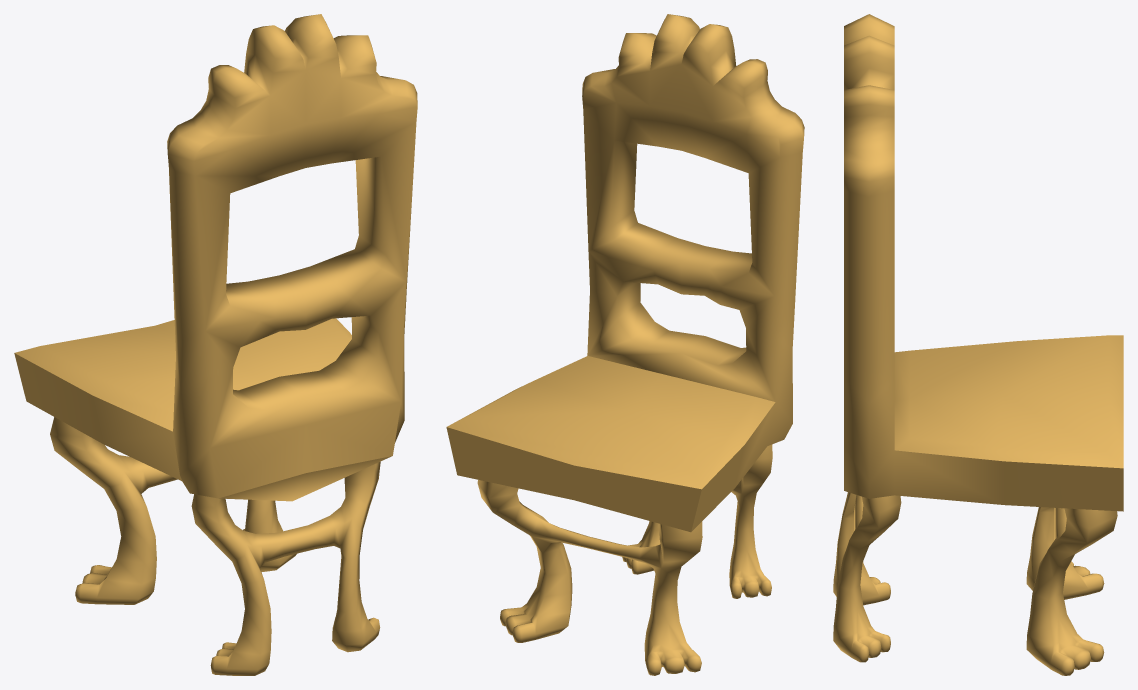
The model's file is props_chair.fbx.
The picture shows the model from 3 angles, left to right: view 1: azimuth 30°, elevation 25°; view 2: azimuth 150°, elevation 25°; view 3: azimuth 270°, elevation 25°; orthographic projection. The views are drawn at different scales.
Parts seen in each view (by area): view 1: chair; view 2: chair; view 3: chair.
Boxes of the visible parts, bbox=[...] form: chair: bbox=[14, 14, 417, 675]; chair: bbox=[446, 14, 804, 675]; chair: bbox=[833, 14, 1123, 675].
Bounding box in the file's own units: 77.41 × 71.39 × 162.
